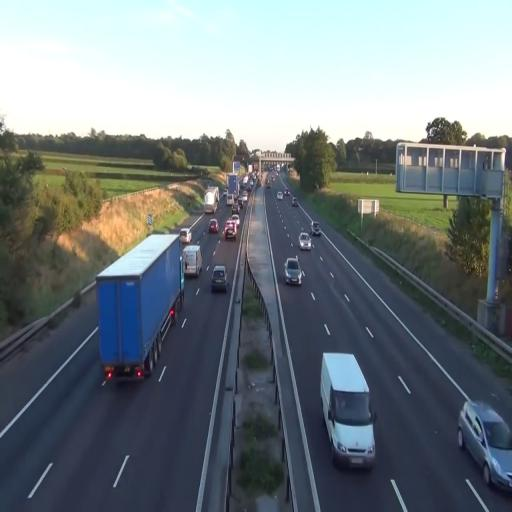vehicle: (96, 230, 185, 382), (96, 231, 184, 382), (321, 352, 376, 469), (457, 399, 512, 492), (182, 244, 202, 278), (182, 244, 202, 277), (285, 257, 304, 285), (211, 264, 229, 292), (223, 216, 239, 242), (298, 232, 312, 251), (208, 218, 219, 234), (311, 222, 320, 236)
